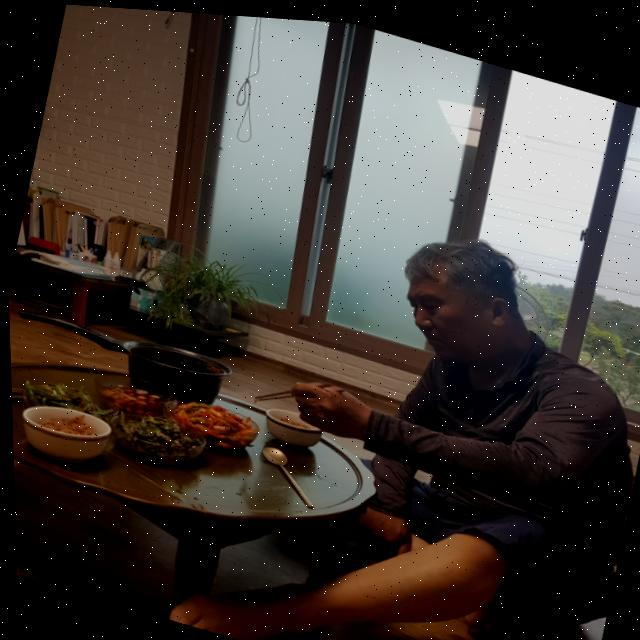eating-person: (116, 135, 640, 640)
